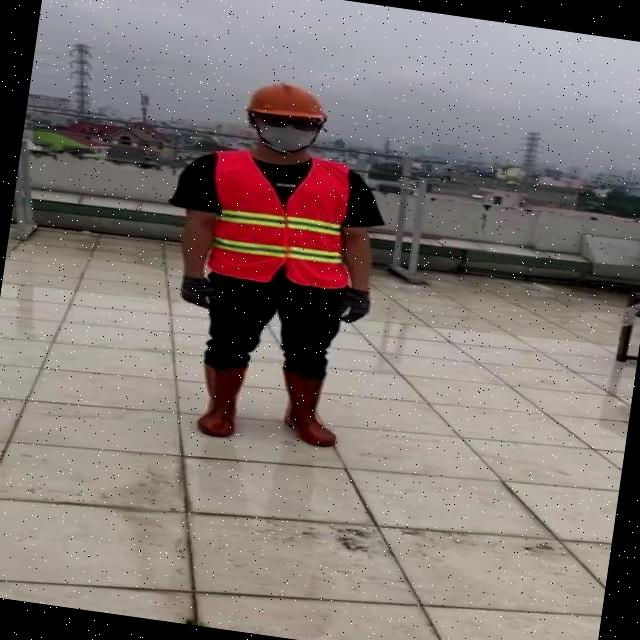boots: (268, 366, 346, 450), (188, 362, 250, 444)
helmet: (240, 75, 332, 126)
vest: (197, 148, 370, 292)
